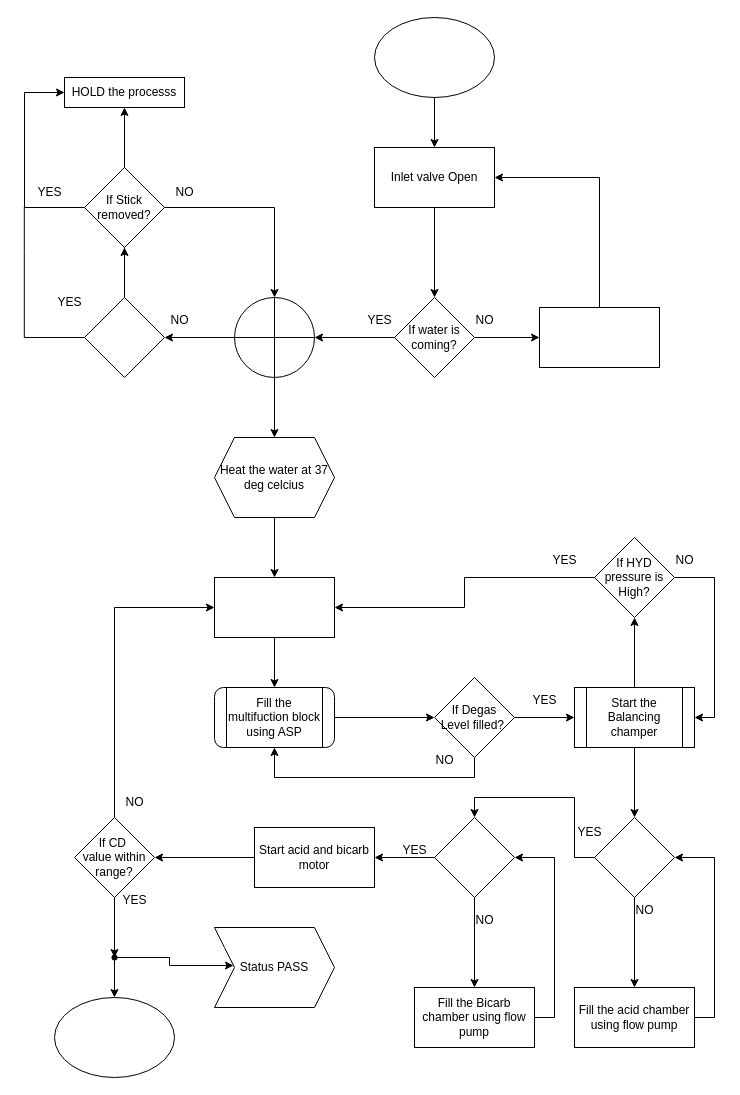
The diagram is 740 pixels wide and 1095 high, and some of its shapes have lost their labels. Here are the shapes that lost their labels. From the top down, the box of each, then its label:
(374, 16, 494, 98): Start
(84, 296, 164, 378): If shunt door open?
(538, 306, 660, 368): Water alarm and Degas flow looped
(214, 576, 334, 638): Control the Flow pump
(434, 816, 514, 898): If Bicarb champer filled?
(594, 816, 674, 898): If Acid champer filled?
(54, 996, 174, 1078): END
